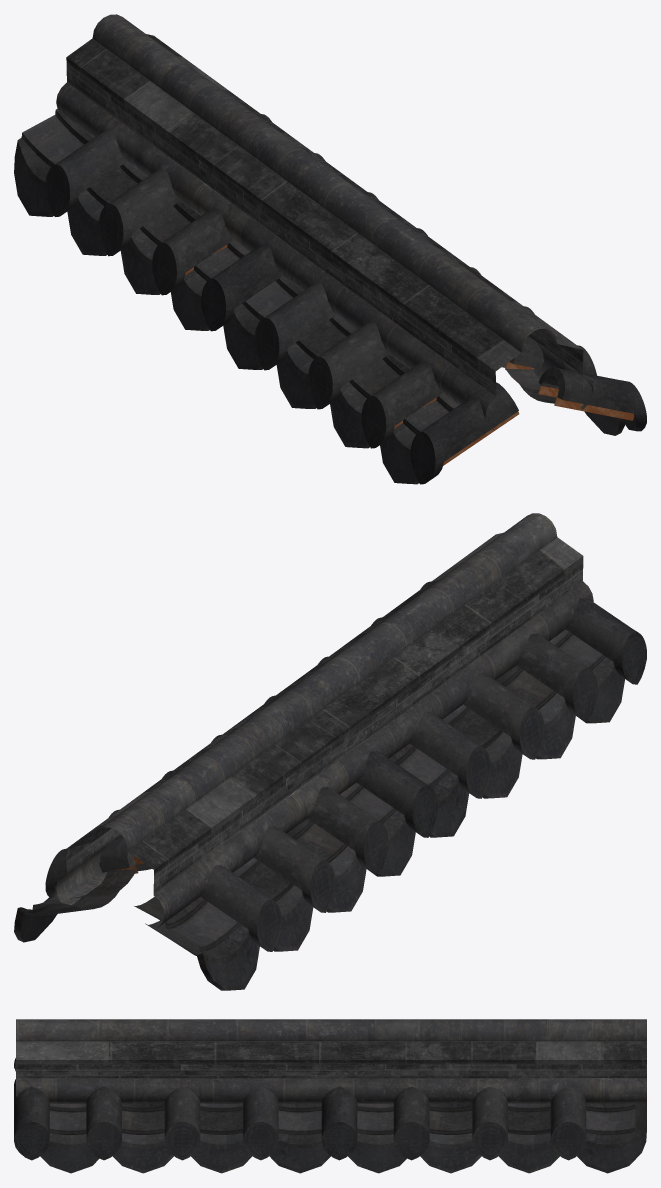
File: SM_HG_Roof01D.fbx
3 renders of one model, top to bottom at view 1: azimuth 30°, elevation 25°; view 2: azimuth 150°, elevation 25°; view 3: azimuth 270°, elevation 25°, orthographic. The views are drawn at different scales.
Visible parts, largest first — view 1: SM_HG_Roof01D; view 2: SM_HG_Roof01D; view 3: SM_HG_Roof01D.
Boxes of the visible parts, x1,y1,x2,y2 form: SM_HG_Roof01D: [14, 14, 646, 484]; SM_HG_Roof01D: [14, 513, 646, 990]; SM_HG_Roof01D: [14, 1019, 646, 1173].
Bounding box in the file's own units: 58.01 × 199 × 39.95.
Materials: 1 (1 with a texture image).
